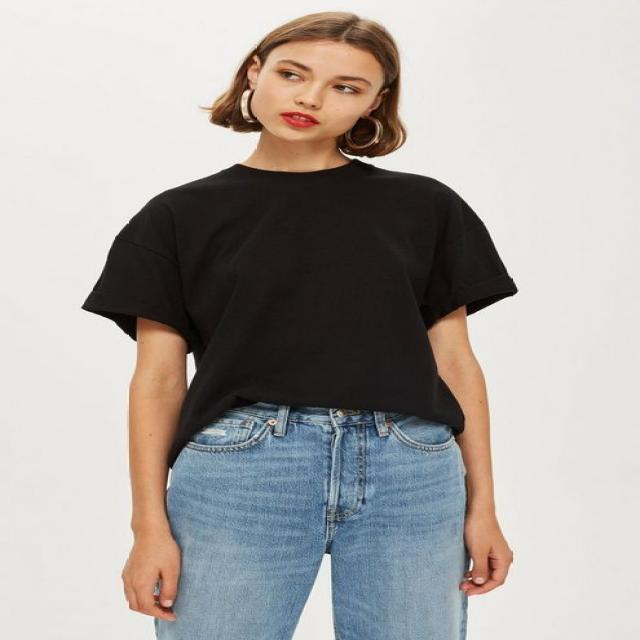Upper-Body: (89, 163, 511, 460)
